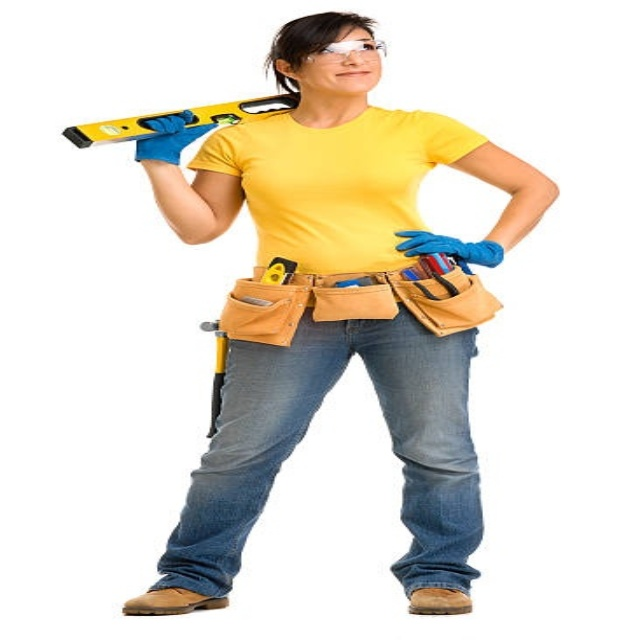Gafas: (301, 40, 386, 61)
Guantes: (132, 109, 224, 165), (394, 230, 504, 269)
Sin_mascara: (325, 68, 378, 89)
